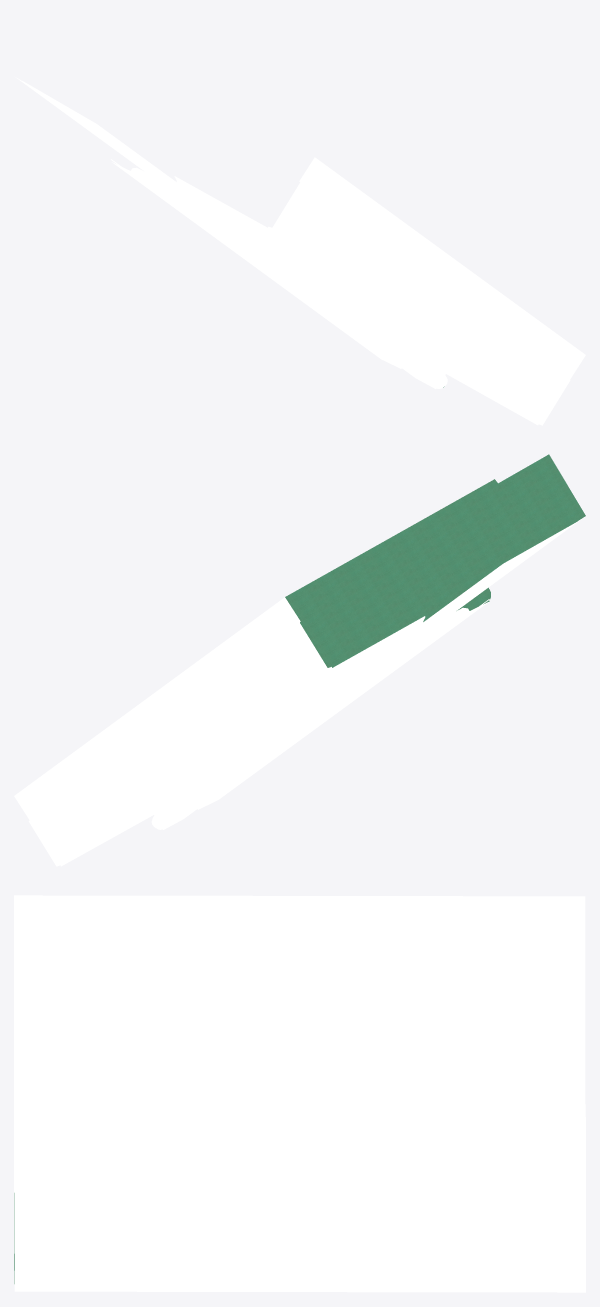
The picture shows the model from 3 angles, top to bottom: view 1: azimuth 30°, elevation 25°; view 2: azimuth 150°, elevation 25°; view 3: azimuth 270°, elevation 25°; orthographic projection. The views are drawn at different scales.
Visible parts, largest first — view 1: BuildingMaster_1986194604584463729600000000_0; view 2: BuildingMaster_1986194604584463729600000000_0, BuildingMaster_1986194604584463729600000000_1; view 3: BuildingMaster_1986194604584463729600000000_0.
Boxes of the visible parts, x1,y1,x2,y2 form: BuildingMaster_1986194604584463729600000000_0: (15,77,585,425); BuildingMaster_1986194604584463729600000000_0: (14,517,583,866); BuildingMaster_1986194604584463729600000000_1: (285,454,585,667); BuildingMaster_1986194604584463729600000000_0: (14,895,585,1292).
Bounding box in the file's own units: 134 × 114 × 210.
